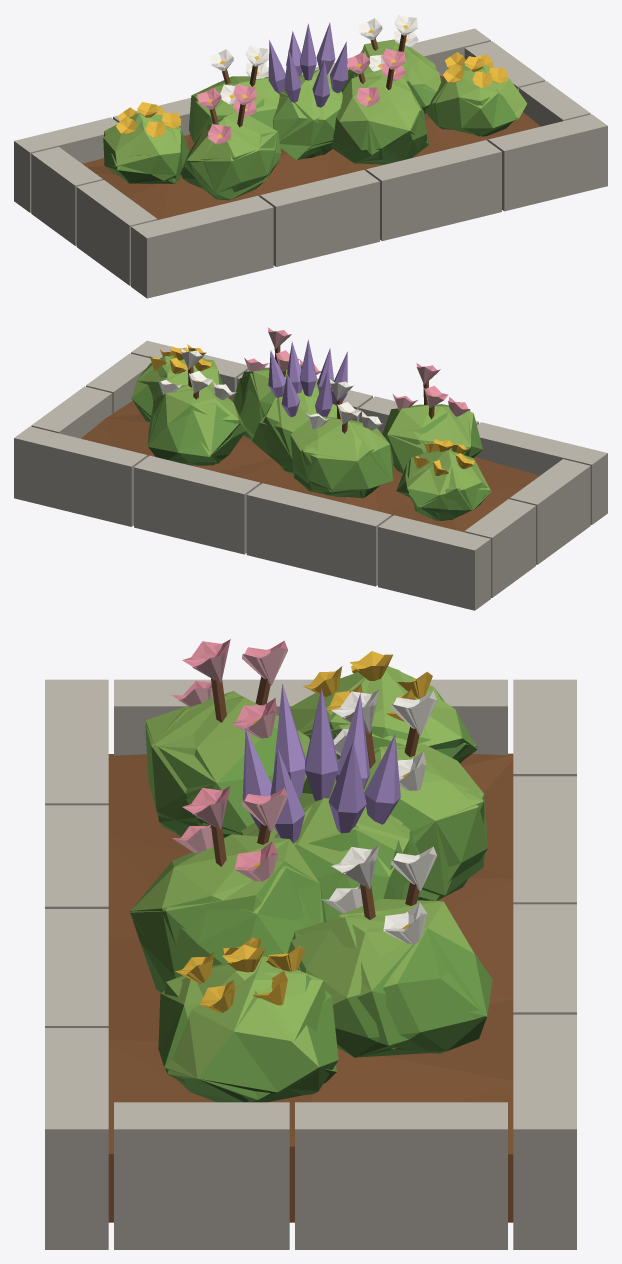
File: FMS_Garden_Bed_Straight_Planted.fbx
3 views of the same model, one above another, from view 1: azimuth 30°, elevation 25°; view 2: azimuth 150°, elevation 25°; view 3: azimuth 270°, elevation 25° (orthographic). The views are drawn at different scales.
Visible parts, largest first — view 1: FMS_Garden_Bed_Straight_Planted_Border_S, FMS_Garden_Bed_Straight_Planted_Foliage, FMS_Garden_Bed_Straight_Planted_Border_Ends, FMS_Garden_Bed_Straight_Planted_Flowers, FMS_Garden_Bed_Straight_Planted_Foliage_Low1, FMS_Garden_Bed_Straight_Planted_Soil, FMS_Garden_Bed_Straight_Planted_Border_N, FMS_Garden_Bed_Straight_Planted_Flowers_Low1; view 2: FMS_Garden_Bed_Straight_Planted_Border_N, FMS_Garden_Bed_Straight_Planted_Foliage, FMS_Garden_Bed_Straight_Planted_Border_Ends, FMS_Garden_Bed_Straight_Planted_Foliage_Low1, FMS_Garden_Bed_Straight_Planted_Flowers, FMS_Garden_Bed_Straight_Planted_Soil, FMS_Garden_Bed_Straight_Planted_Border_S, FMS_Garden_Bed_Straight_Planted_Flowers_Low1; view 3: FMS_Garden_Bed_Straight_Planted_Foliage, FMS_Garden_Bed_Straight_Planted_Border_Ends, FMS_Garden_Bed_Straight_Planted_Soil, FMS_Garden_Bed_Straight_Planted_Border_N, FMS_Garden_Bed_Straight_Planted_Border_S, FMS_Garden_Bed_Straight_Planted_Flowers, FMS_Garden_Bed_Straight_Planted_Foliage_Low1, FMS_Garden_Bed_Straight_Planted_Flowers_Low1.
Boxes of the visible parts, box(x1,y1,x2,y2) form: FMS_Garden_Bed_Straight_Planted_Border_S: box(131, 114, 607, 298); FMS_Garden_Bed_Straight_Planted_Foliage: box(103, 39, 526, 200); FMS_Garden_Bed_Straight_Planted_Border_Ends: box(31, 41, 590, 285); FMS_Garden_Bed_Straight_Planted_Flowers: box(116, 14, 507, 144); FMS_Garden_Bed_Straight_Planted_Foliage_Low1: box(104, 43, 526, 199); FMS_Garden_Bed_Straight_Planted_Soil: box(83, 75, 540, 219); FMS_Garden_Bed_Straight_Planted_Border_N: box(14, 28, 490, 212); FMS_Garden_Bed_Straight_Planted_Flowers_Low1: box(118, 17, 508, 143); FMS_Garden_Bed_Straight_Planted_Border_N: box(14, 426, 490, 610); FMS_Garden_Bed_Straight_Planted_Foliage: box(131, 355, 491, 520); FMS_Garden_Bed_Straight_Planted_Border_Ends: box(31, 353, 590, 597); FMS_Garden_Bed_Straight_Planted_Foliage_Low1: box(138, 356, 490, 520); FMS_Garden_Bed_Straight_Planted_Flowers: box(150, 327, 474, 475); FMS_Garden_Bed_Straight_Planted_Soil: box(81, 398, 539, 532); FMS_Garden_Bed_Straight_Planted_Border_S: box(131, 340, 607, 524); FMS_Garden_Bed_Straight_Planted_Flowers_Low1: box(152, 331, 473, 474); FMS_Garden_Bed_Straight_Planted_Foliage: box(130, 666, 492, 1102); FMS_Garden_Bed_Straight_Planted_Border_Ends: box(114, 679, 507, 1249); FMS_Garden_Bed_Straight_Planted_Soil: box(108, 753, 513, 1222); FMS_Garden_Bed_Straight_Planted_Border_N: box(513, 679, 576, 1249); FMS_Garden_Bed_Straight_Planted_Border_S: box(45, 679, 108, 1249); FMS_Garden_Bed_Straight_Planted_Flowers: box(171, 639, 437, 1012); FMS_Garden_Bed_Straight_Planted_Foliage_Low1: box(130, 666, 485, 1102); FMS_Garden_Bed_Straight_Planted_Flowers_Low1: box(179, 643, 436, 1012).
Size of the model in its own units: 2 by 0.7 by 1.
1 material, 1 textured.
